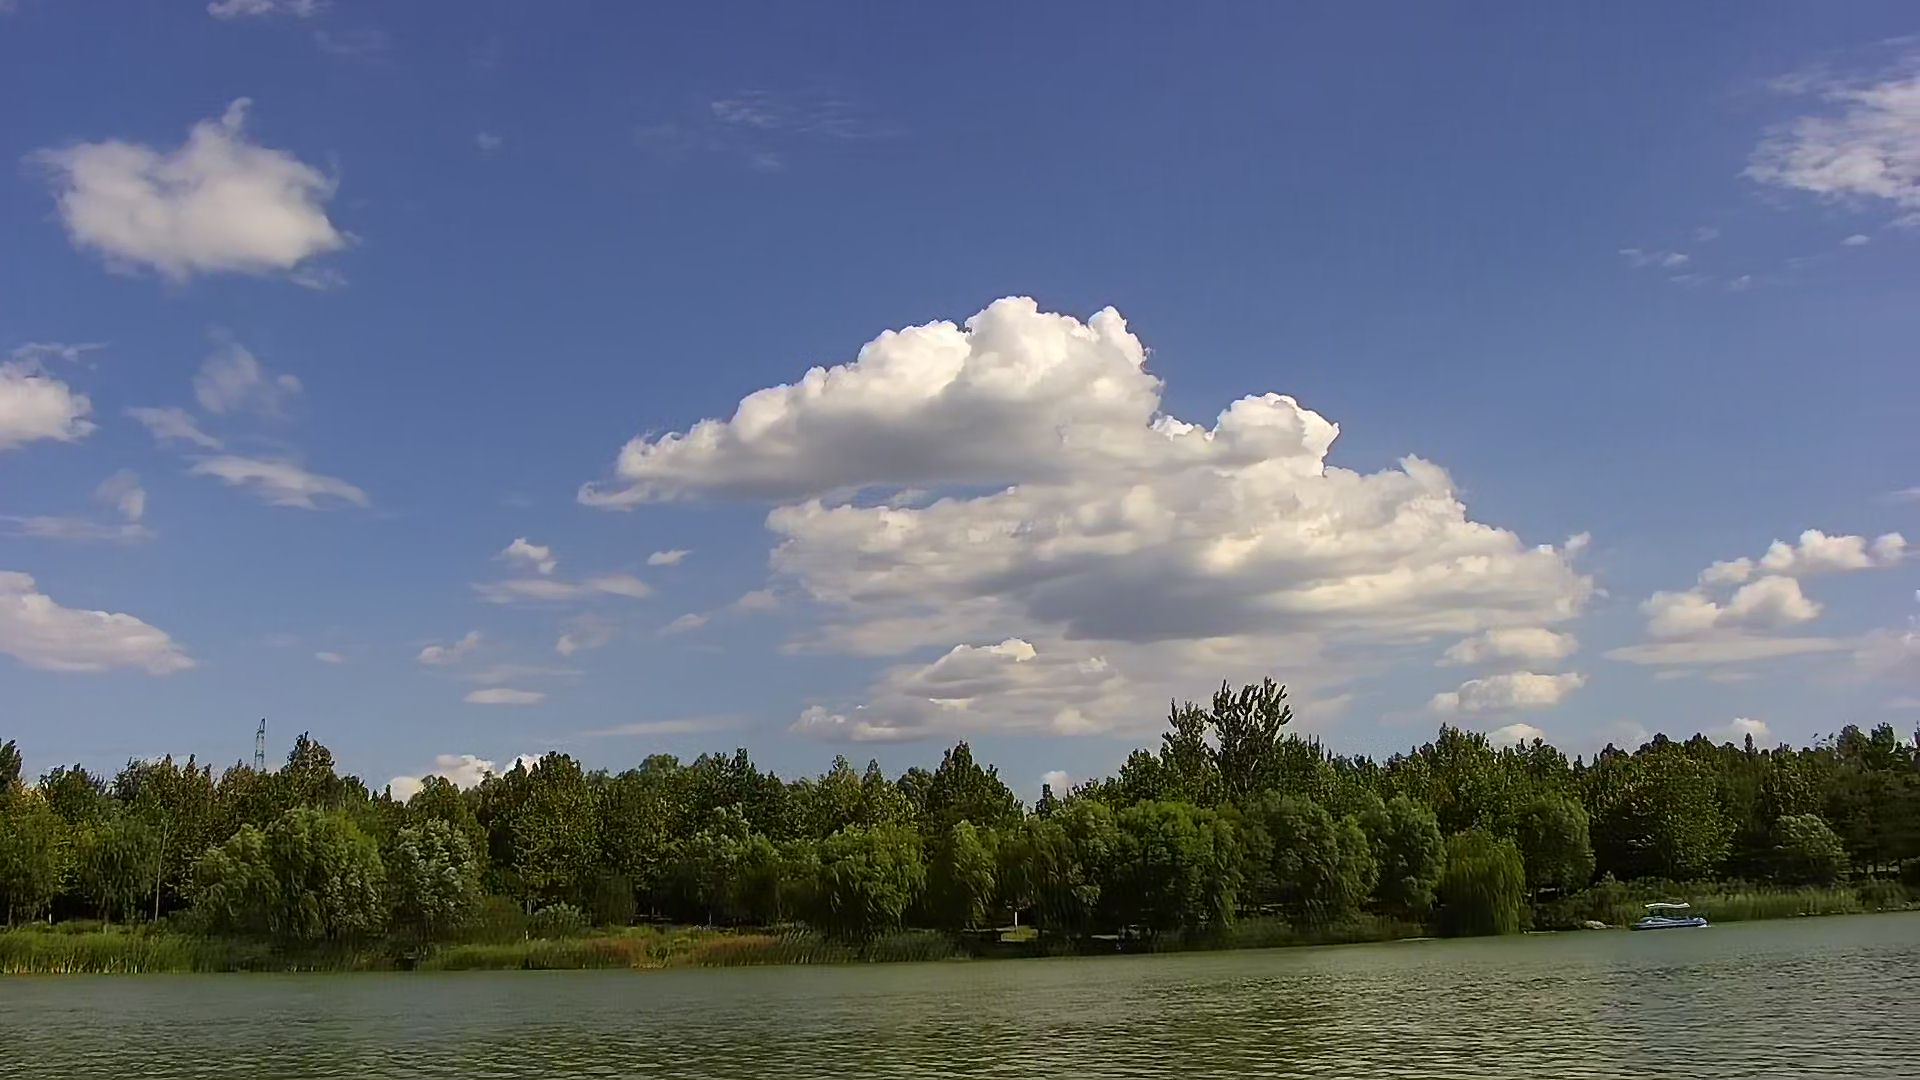boat: (1627, 897, 1718, 940)
